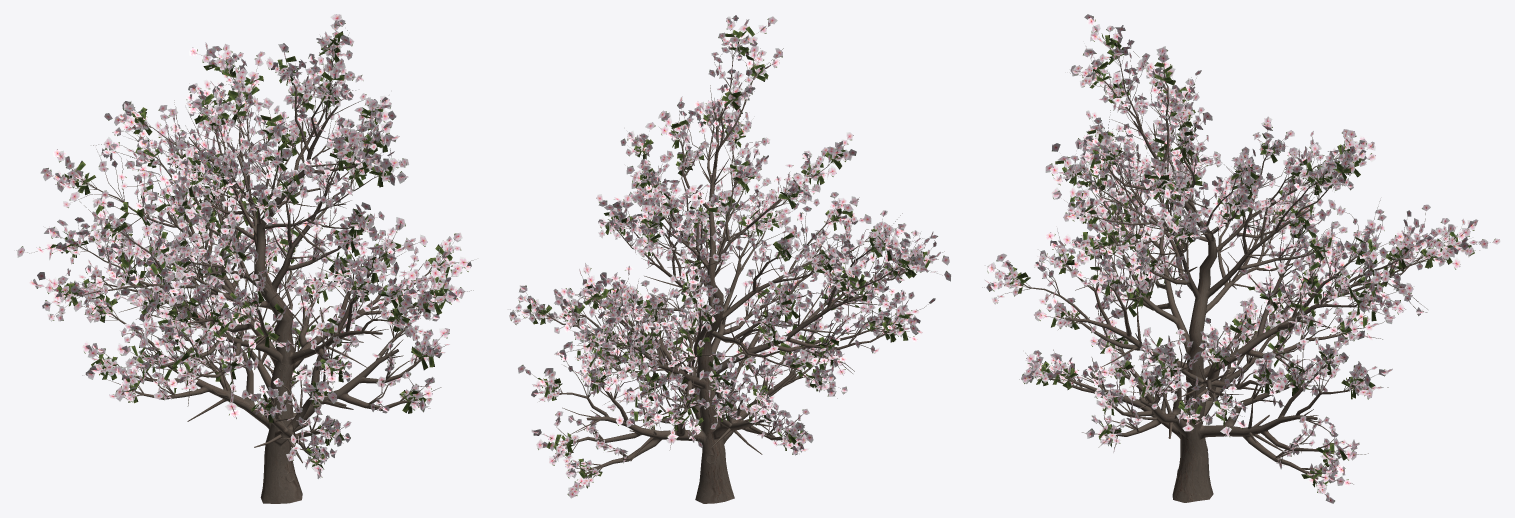
Rendered from japanese_cherry_tree.glb.
The picture shows the model from 3 angles, left to right: view 1: azimuth 30°, elevation 25°; view 2: azimuth 150°, elevation 25°; view 3: azimuth 270°, elevation 25°; orthographic projection. The views are drawn at different scales.
Parts seen in each view (by area): view 1: cherry_0; view 2: cherry_0; view 3: cherry_0.
Boxes of the visible parts, bbox=[...] form: cherry_0: bbox=[16, 14, 473, 503]; cherry_0: bbox=[509, 15, 950, 503]; cherry_0: bbox=[982, 14, 1500, 503].
Size of the model in its own units: 38.64 by 39.01 by 38.45.
2 materials, 2 textured.
